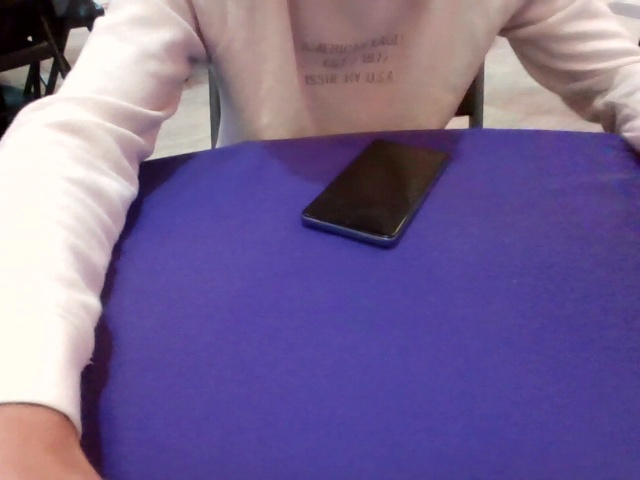celular: (302, 137, 453, 249)
